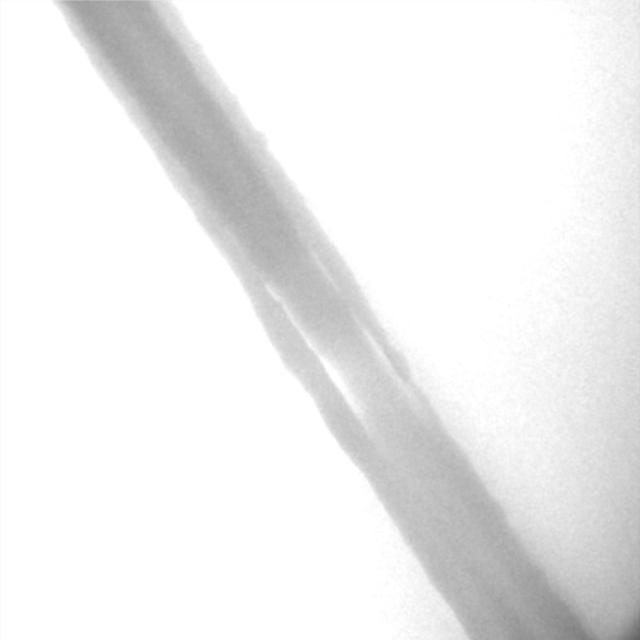unfused: (266, 251, 404, 423)
